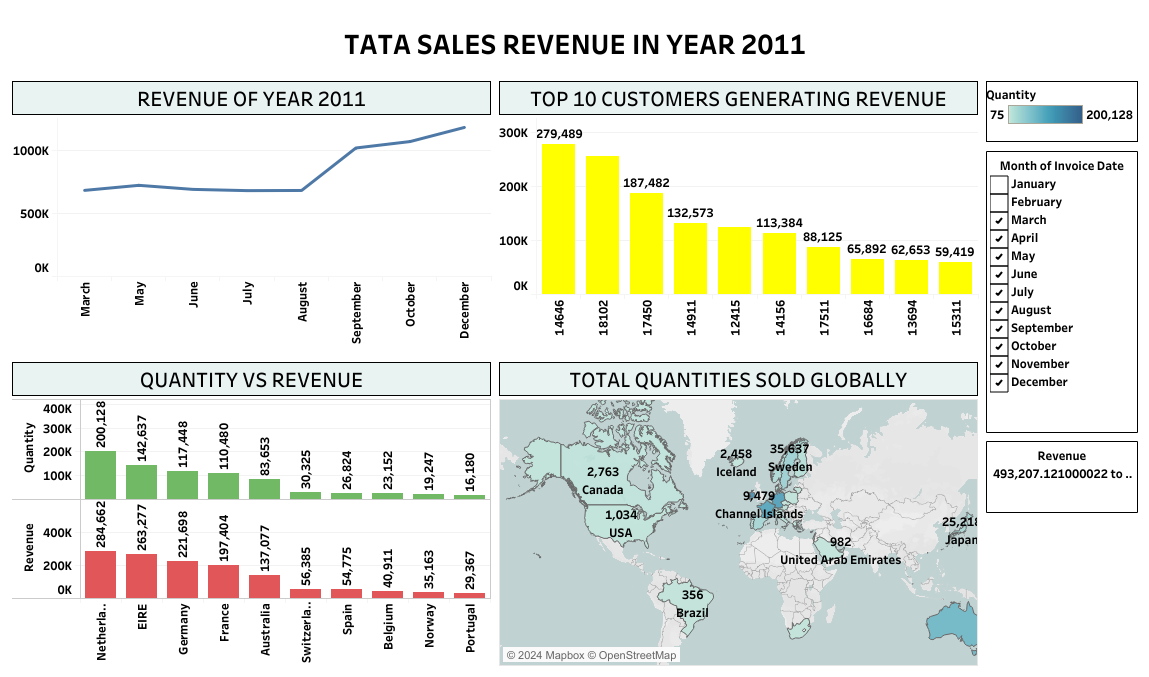

The page's visual inventory and layout, read from the dashboard file:
{"tool":"tableau","page":{"name":"Dashboard 1","canvas":[1000,1000],"units":"permille","ordinal":0},"visuals":[{"type":"text","box":[7,14.3,986,71.4]},{"type":"legend","title":"TOTAL QUANTITIES SOLD GLOBALLY","param":"[federated.0g74v8409yl7xw11lz9p60sexn6k].[sum:Quantity:qk]","box":[7,85.7,986,57.1]},{"type":"worksheet","title":"REVENUE OF YEAR 2011","mark":"Automatic","rows":["Calculation_12947863352676352"],"cols":["InvoiceDate"],"box":[7,142.9,493.4,399.1]},{"type":"worksheet","title":"TOP 10 CUSTOMERS GENERATING REVENUE","mark":"Automatic","rows":["Calculation_12947863352676352"],"cols":["CustomerID"],"box":[500.4,142.9,492.6,399.1]},{"type":"worksheet","title":"QUANTITY VS REVENUE","mark":"Automatic","rows":["Quantity","Calculation_12947863352676352"],"cols":["Country"],"box":[7,541.9,493,443.8]},{"type":"worksheet","title":"TOTAL QUANTITIES SOLD GLOBALLY","mark":"Multipolygon","box":[500,541.9,493,443.8]}]}

Visuals, with their boxes on the dashboard's canvas, which has no fixed pixel size, in thousandths of its width and height (x1, y1, x2, y2). These are canvas units, not pixel positions in the 1149x677 screenshot, which may show the page scaled, cropped or inside an application window:
text: locate(7, 14, 993, 86)
"TOTAL QUANTITIES SOLD GLOBALLY" legend: locate(7, 86, 993, 143)
"REVENUE OF YEAR 2011" worksheet: locate(7, 143, 500, 542)
"TOP 10 CUSTOMERS GENERATING REVENUE" worksheet: locate(500, 143, 993, 542)
"QUANTITY VS REVENUE" worksheet: locate(7, 542, 500, 986)
"TOTAL QUANTITIES SOLD GLOBALLY" worksheet (Multipolygon marks): locate(500, 542, 993, 986)
